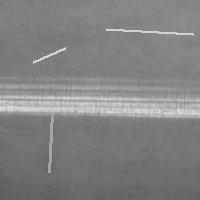scratches: (1, 85, 198, 119), (101, 24, 198, 39), (28, 43, 70, 67), (44, 108, 57, 177)
